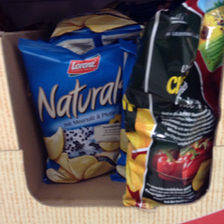chips: (19, 38, 126, 184)
